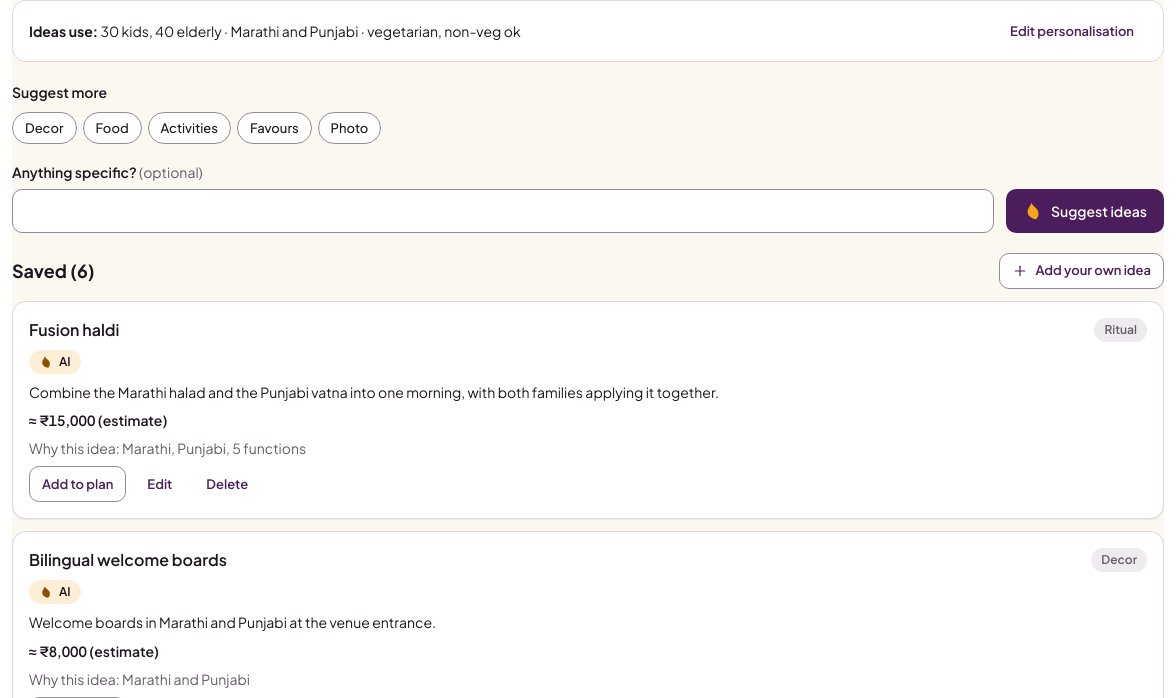
Test: failed manual edits are reported (spec 3.4, QA-02 regression) › a failure without a reason (network or server error) still says the change was not saved
This screenshot has width=1176, height=698.
Click the button with aria-label "Delete: " at (227, 484), box [193,466,261,502]
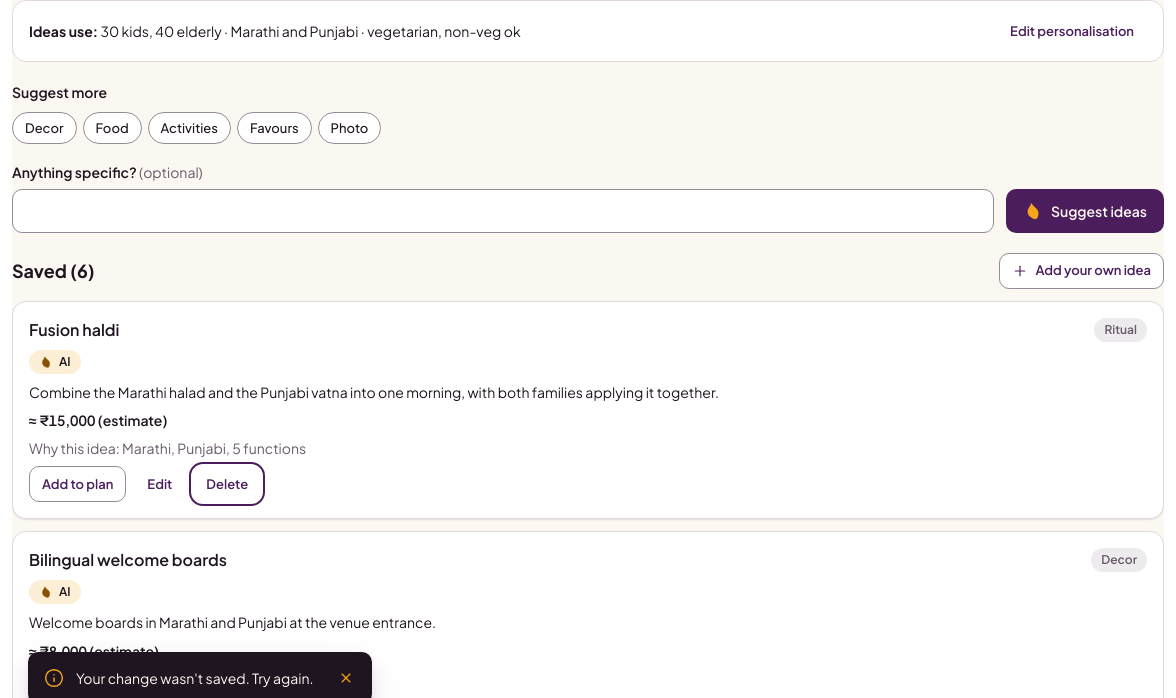
Expected: the text "Your change wasn't saved. Try again." is shown, [76,669,314,687]
